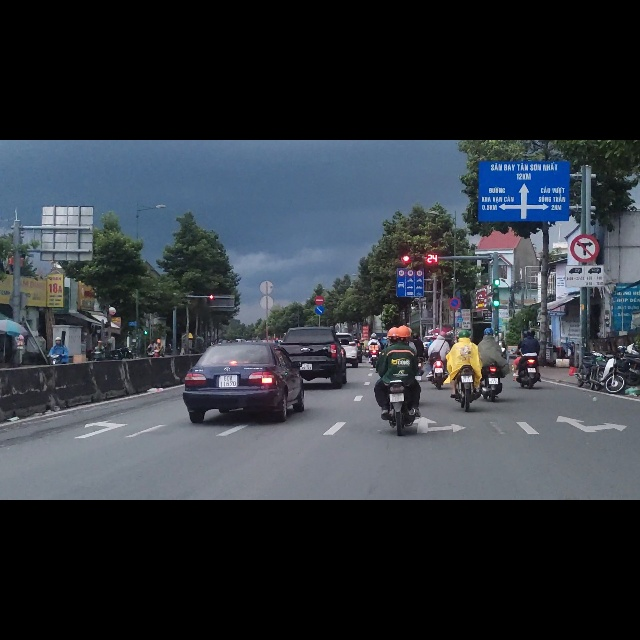bien_cam: (570, 167, 600, 217), (397, 243, 424, 279), (448, 279, 461, 302), (315, 277, 324, 293), (315, 295, 324, 310), (398, 231, 405, 242), (407, 231, 414, 242), (417, 231, 423, 242)
